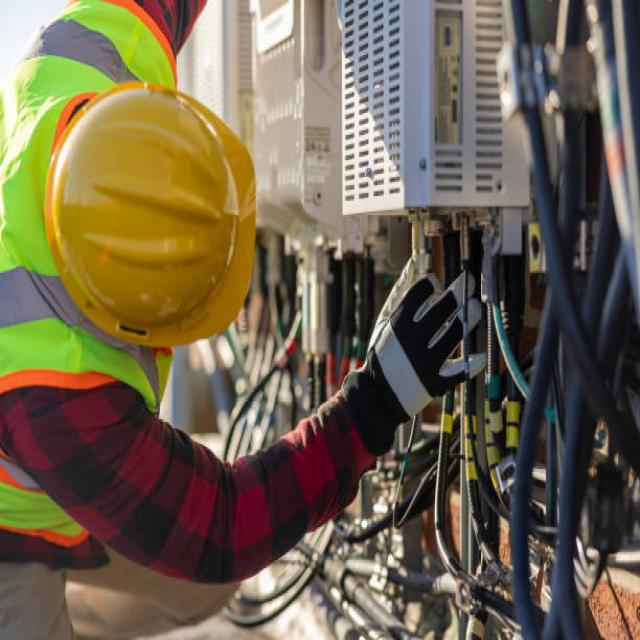Gloves: (336, 251, 498, 464)
Vest: (0, 0, 175, 548)
helmet: (42, 80, 259, 349)
person: (0, 0, 489, 640)
